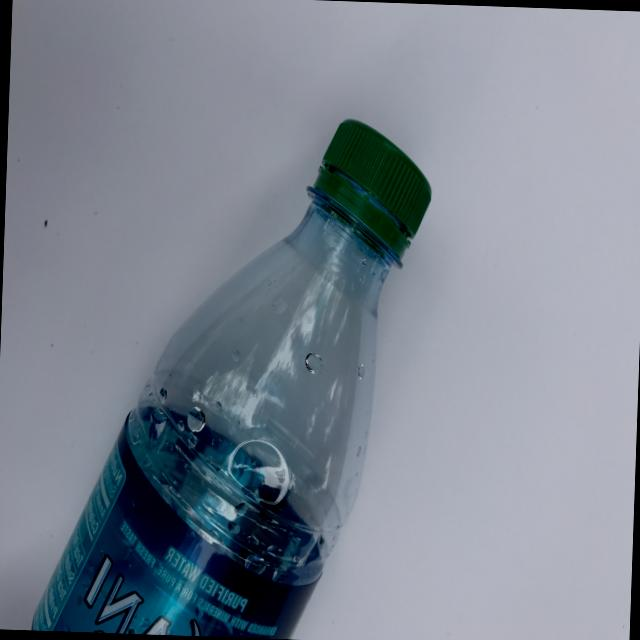Plastic: (24, 34, 465, 640)
